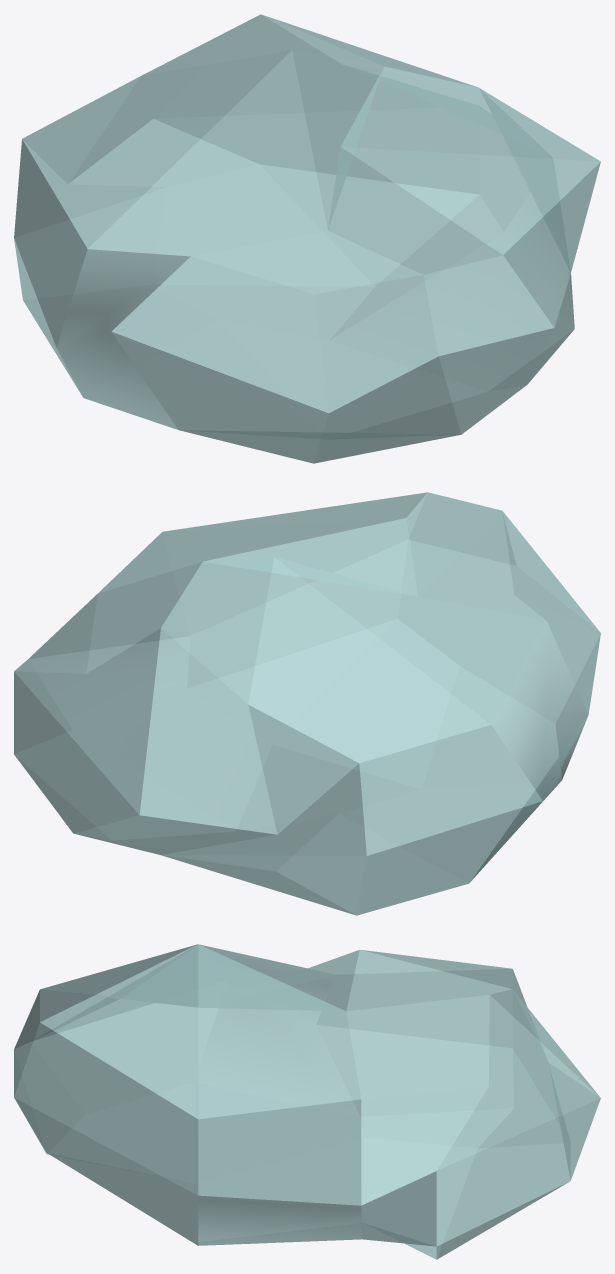
The model's file is Cloud_blue.fbx.
3 renders of one model, top to bottom at view 1: azimuth 30°, elevation 25°; view 2: azimuth 150°, elevation 25°; view 3: azimuth 270°, elevation 25°, orthographic. The views are drawn at different scales.
Parts seen in each view (by area): view 1: Cloud_blue; view 2: Cloud_blue; view 3: Cloud_blue.
Part boxes in pixels (x1,y1,x2,y2): Cloud_blue: (14, 14, 600, 463); Cloud_blue: (14, 492, 600, 915); Cloud_blue: (14, 944, 600, 1259).
Bounding box in the file's own units: 3.19 × 1.77 × 3.63.
